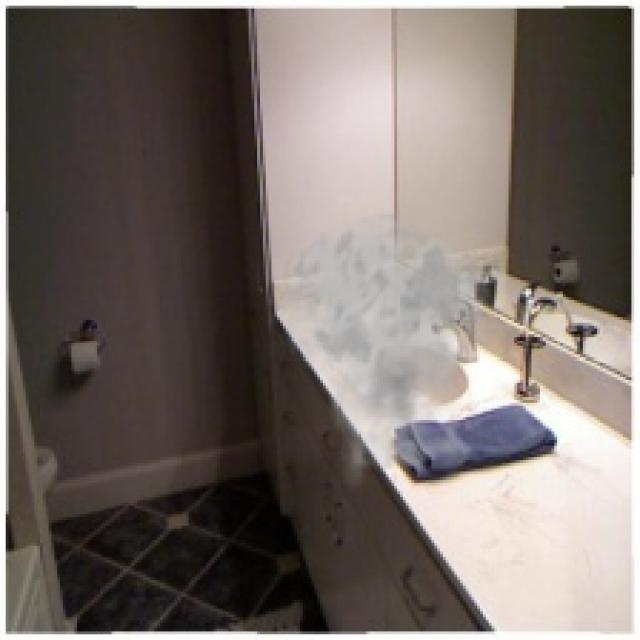smoke: (268, 208, 512, 492)
